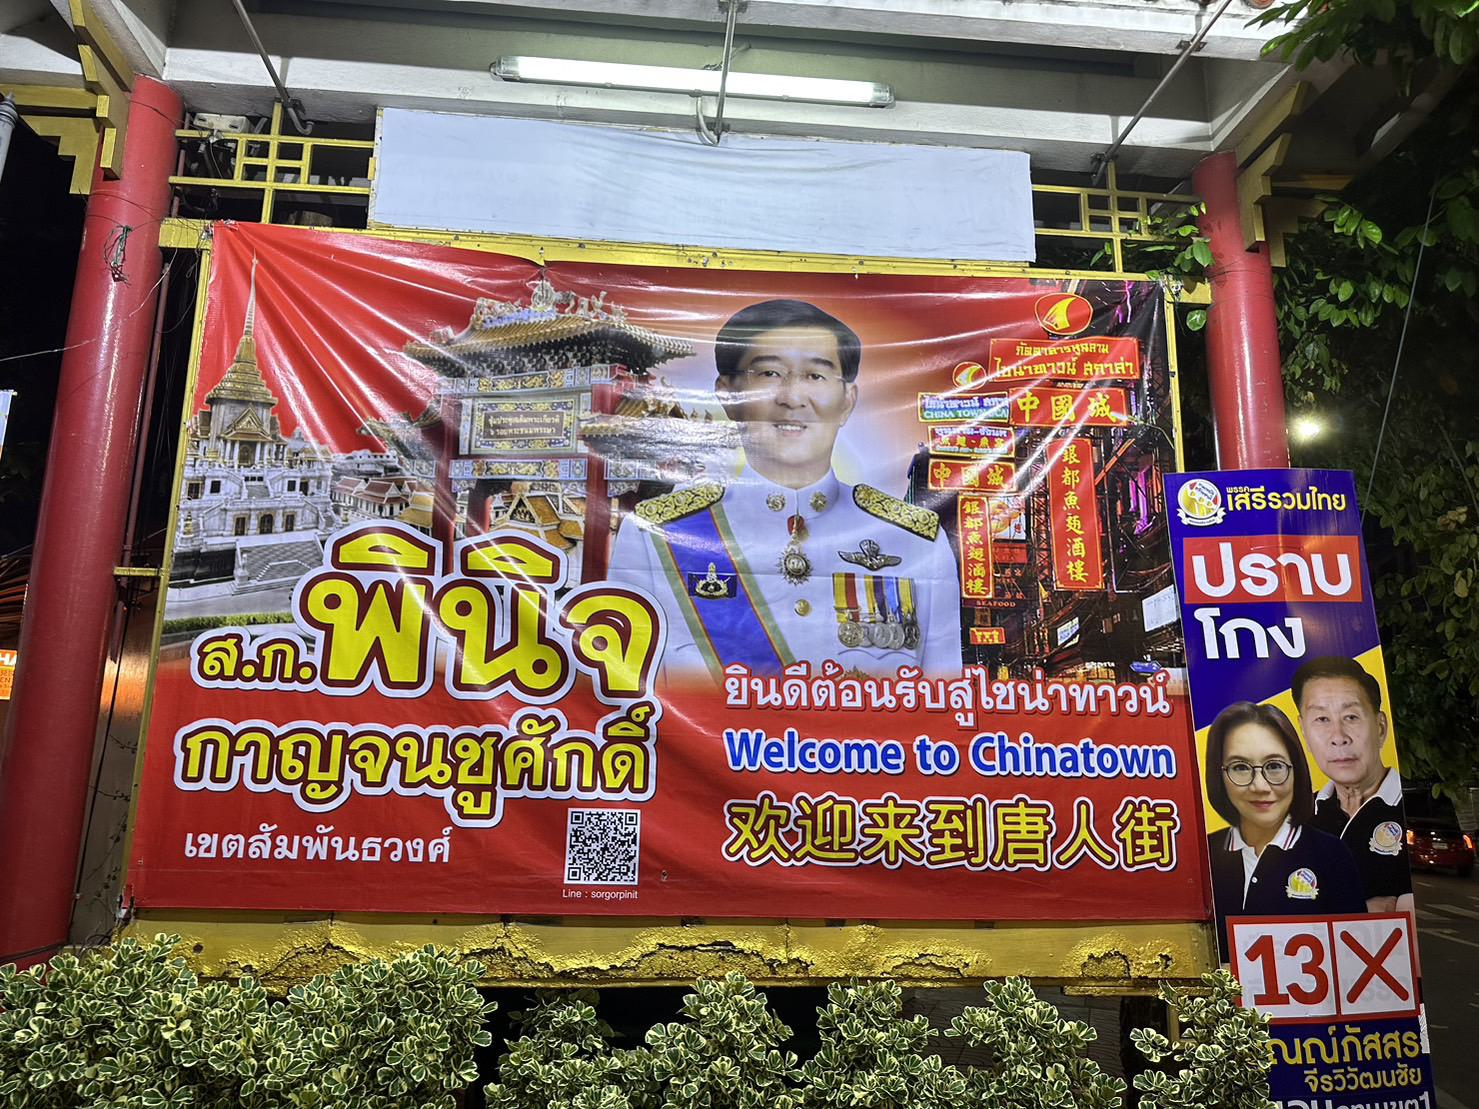Banner: (1170, 472, 1442, 1107)
